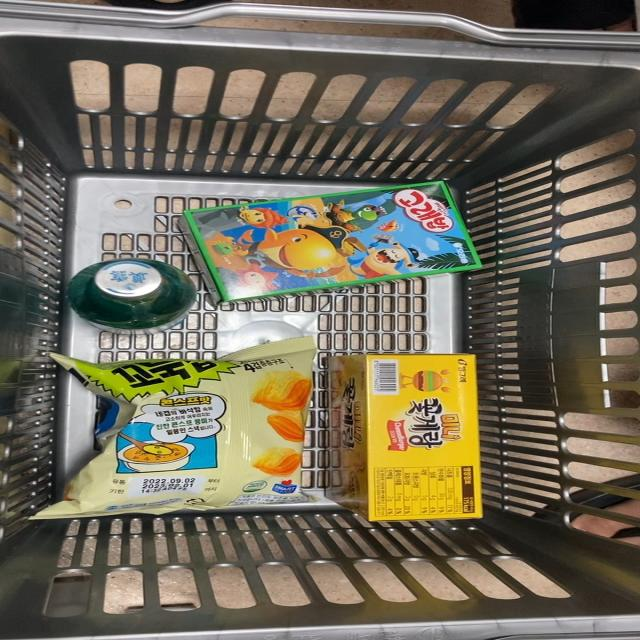ggobukchip: (18, 347, 326, 525)
goraebob: (174, 182, 488, 303)
jinro: (52, 253, 199, 335)
minicrab: (337, 347, 493, 530)
